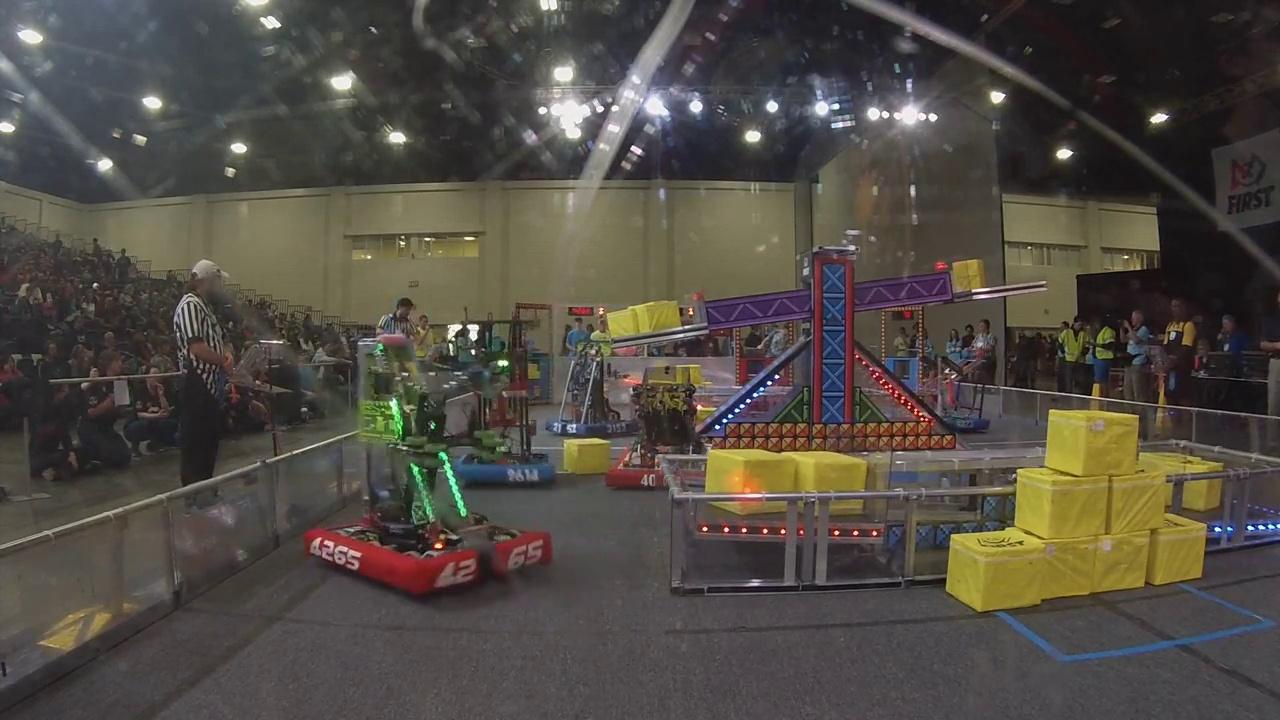robot: (306, 332, 555, 601), (443, 313, 555, 495), (605, 366, 724, 491), (543, 342, 635, 442)
